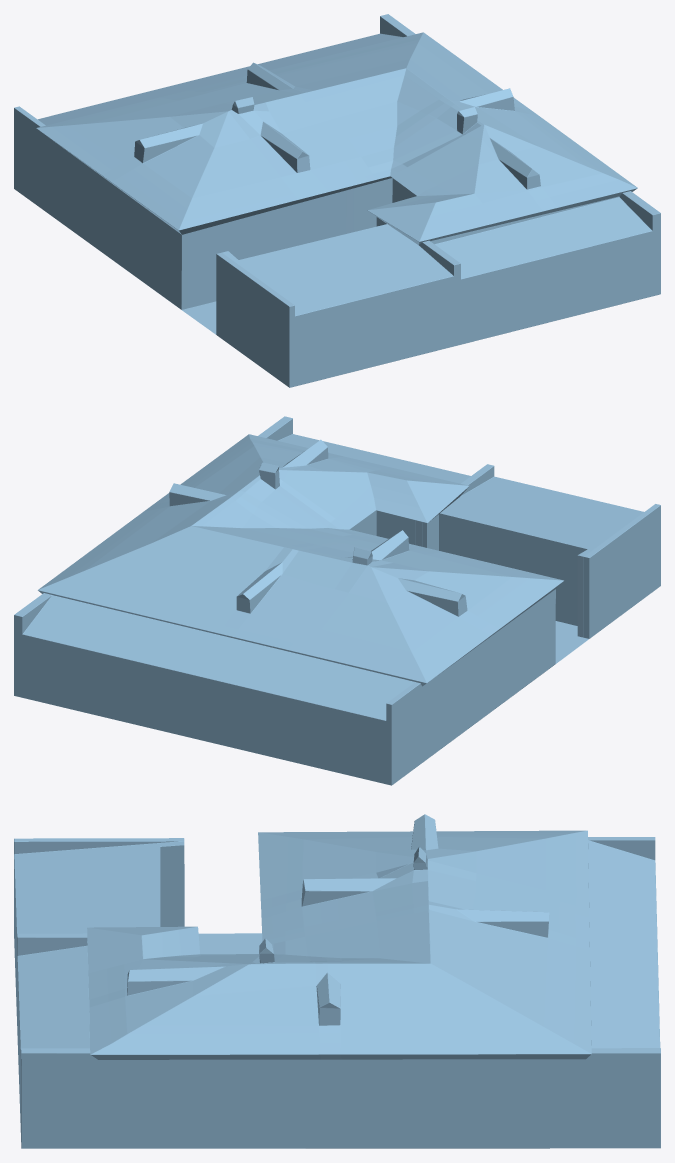
File: solo.fbx
3 renders of one model, top to bottom at view 1: azimuth 30°, elevation 25°; view 2: azimuth 150°, elevation 25°; view 3: azimuth 270°, elevation 25°, orthographic. The views are drawn at different scales.
Visible parts, largest first — view 1: Izh_Low; view 2: Izh_Low; view 3: Izh_Low.
Part boxes in pixels (box(x1,y1,x2,y2)): Izh_Low: box(14, 14, 660, 387); Izh_Low: box(14, 416, 660, 785); Izh_Low: box(14, 814, 660, 1148).
Size of the model in its own units: 2287 by 740 by 2793.
